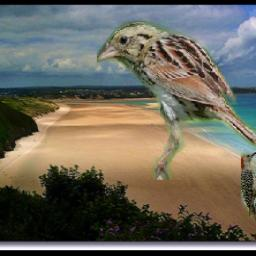Sparrow: (96, 20, 256, 180)
Woodpecker: (240, 151, 256, 222)
